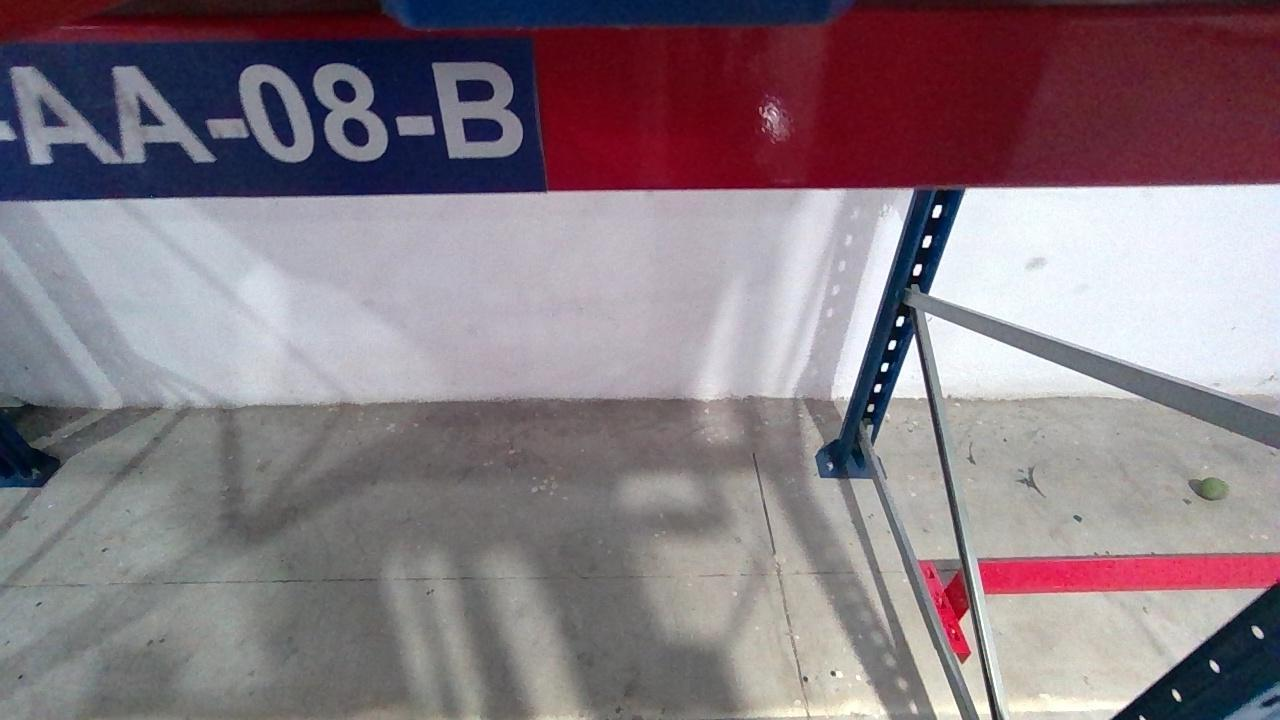h_rack: (0, 6, 1280, 200)
